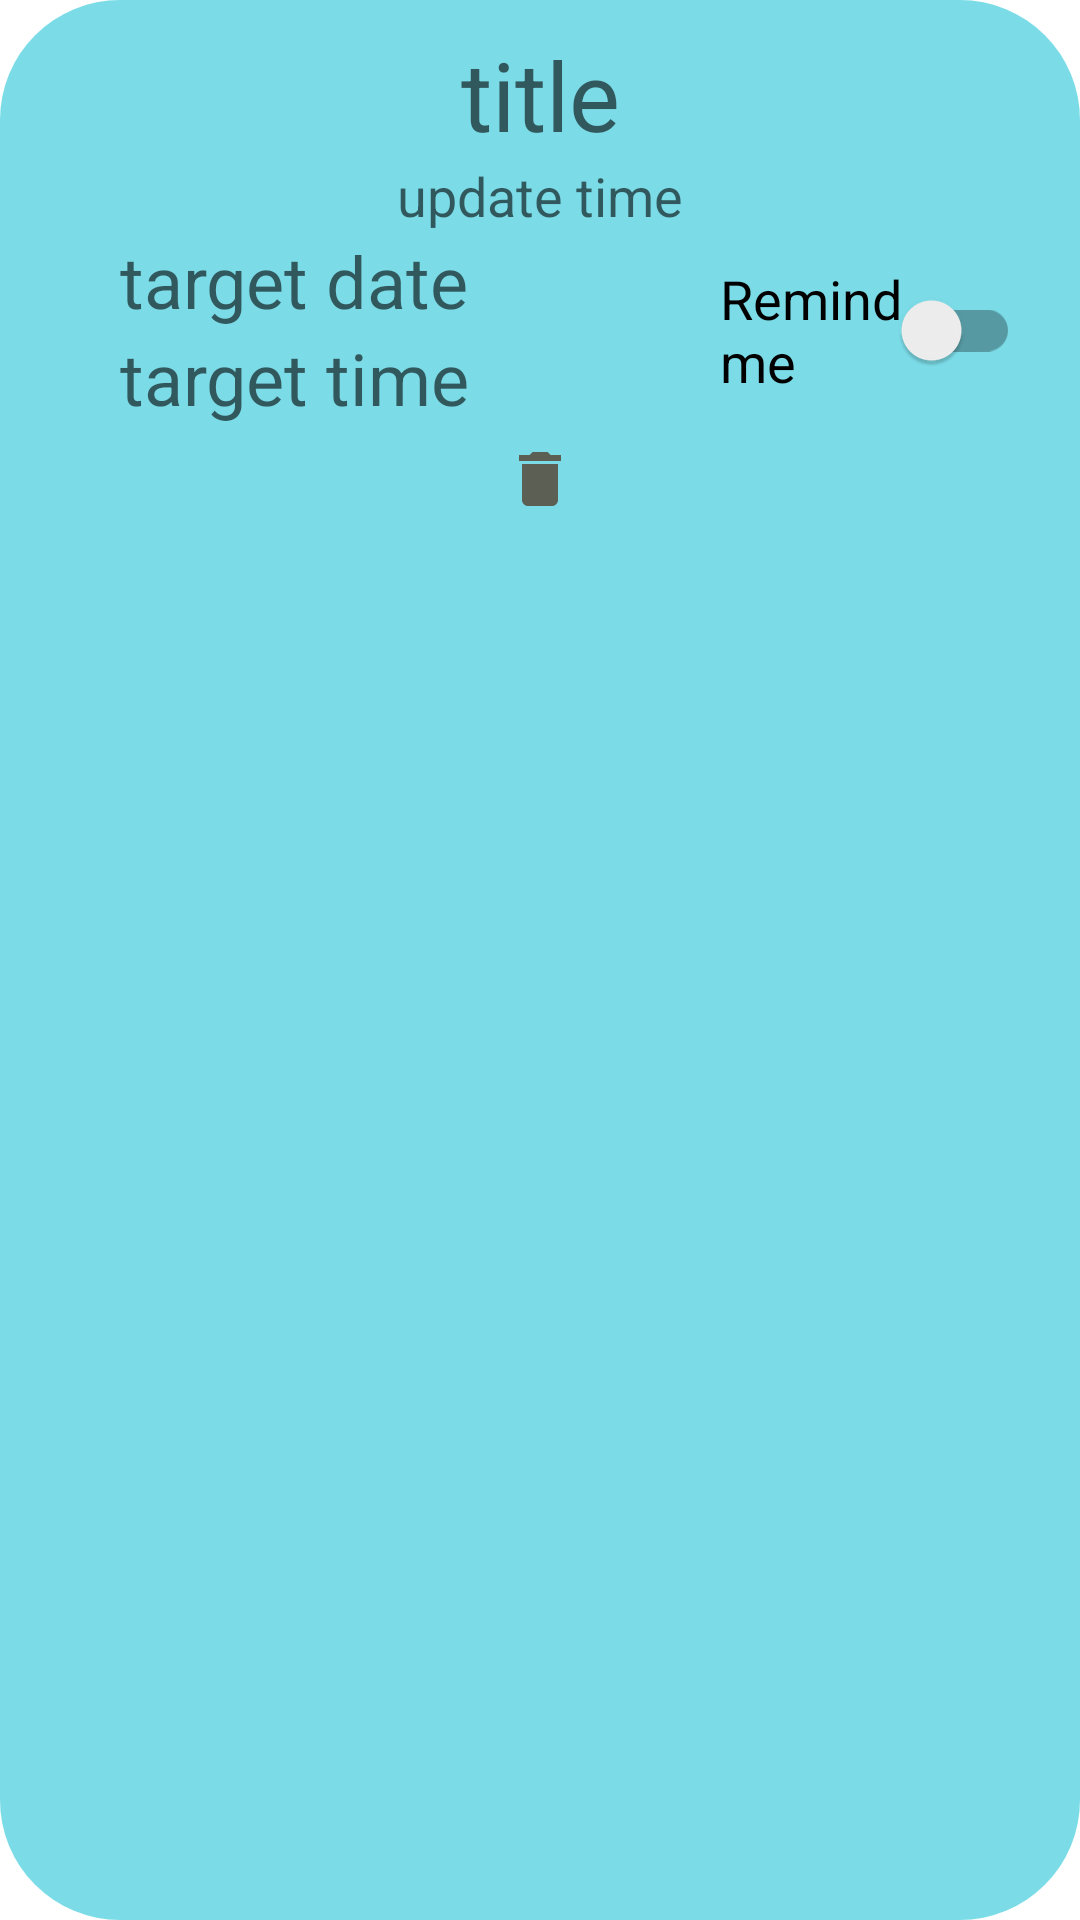

Icon click points for this 1080 x 1920 phone screenshot, format point (x, y):
delete: point (540, 479)
